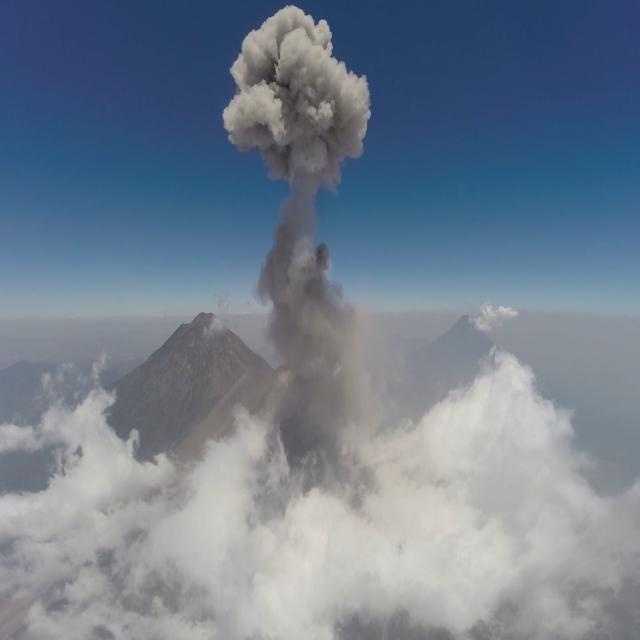Plume: (222, 4, 370, 200), (260, 196, 373, 427)
